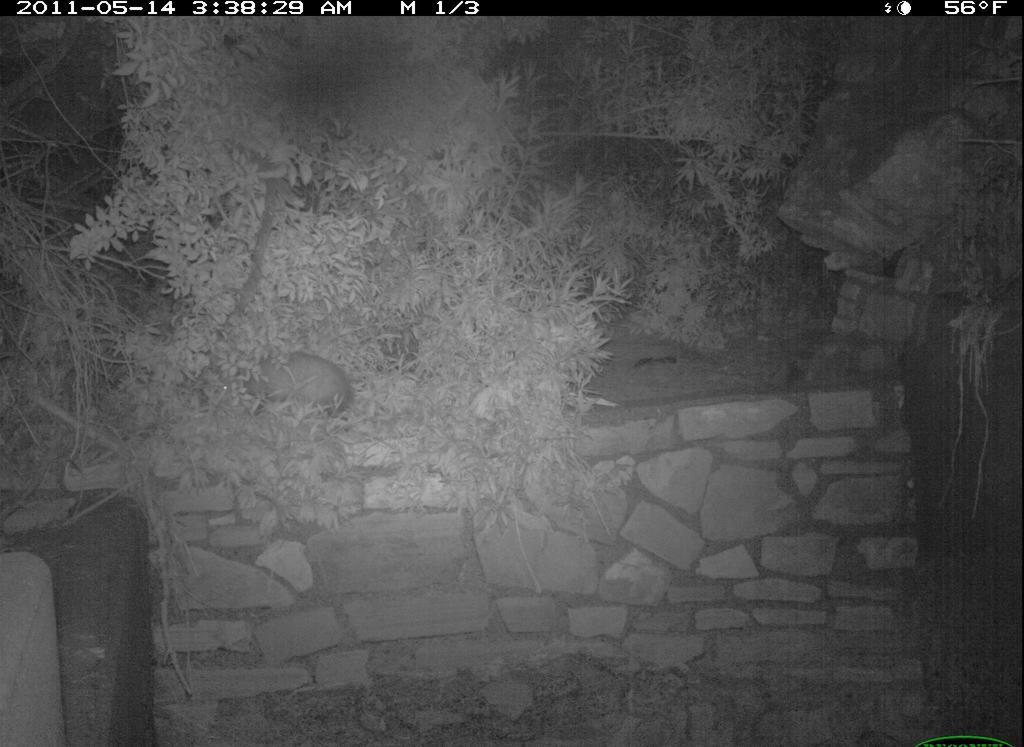opossum: (210, 336, 372, 438)
